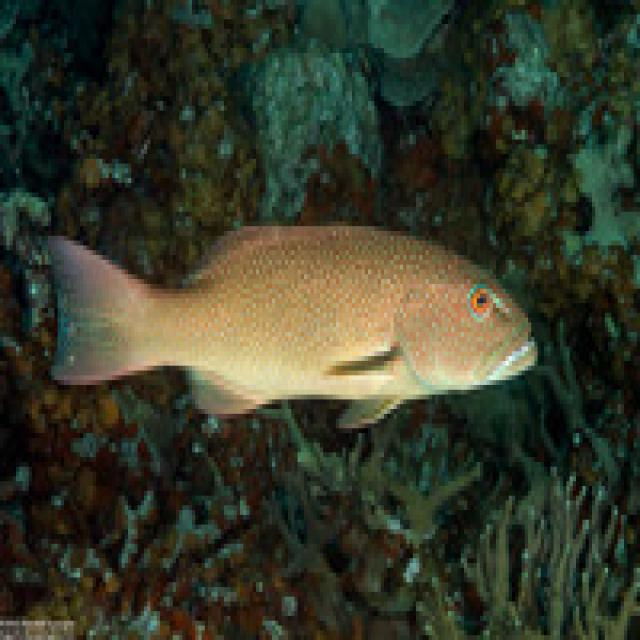Leopard coral grouper: (29, 201, 548, 442)
